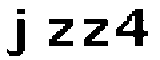4: (115, 4, 148, 48)
j: (4, 6, 27, 60)
z: (40, 17, 76, 49), (81, 17, 113, 49)
